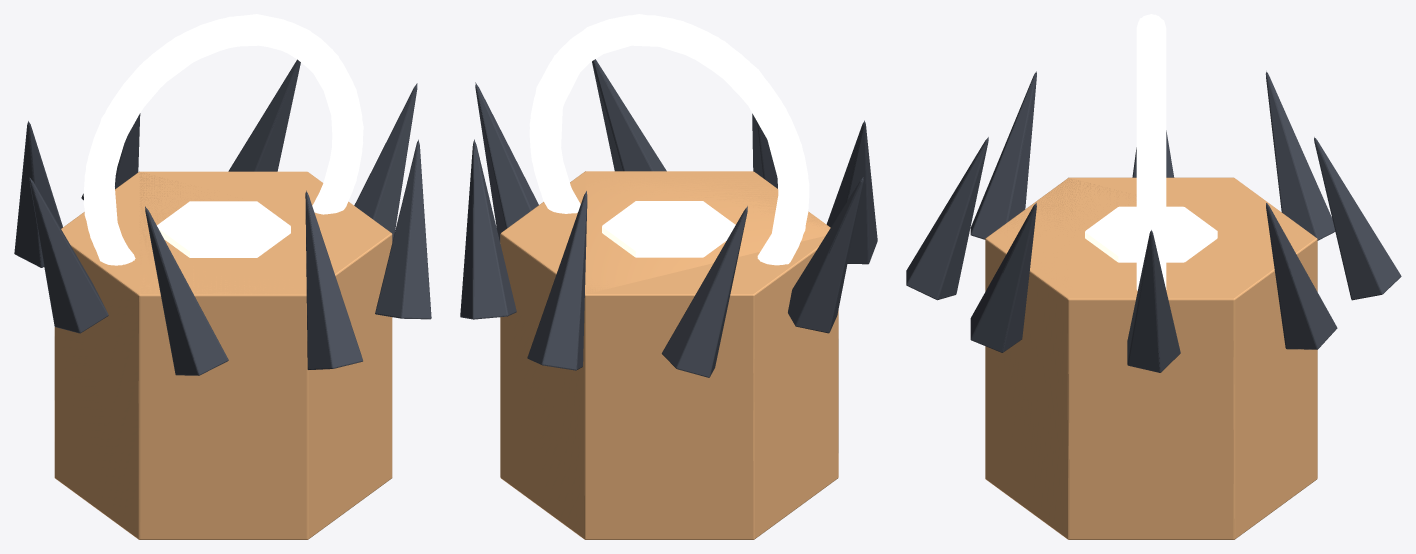
The model's file is SM_Boss_Kochbrunnen.fbx.
The picture shows the model from 3 angles, left to right: view 1: azimuth 30°, elevation 25°; view 2: azimuth 150°, elevation 25°; view 3: azimuth 270°, elevation 25°; orthographic projection.
Visible parts, largest first — view 1: LOD0_SM_Boss_Kochbrunnen, LOD1_SM_Boss_Kochbrunnen, LOD3_SM_Boss_Kochbrunnen, LOD2_SM_Boss_Kochbrunnen; view 2: LOD0_SM_Boss_Kochbrunnen, LOD1_SM_Boss_Kochbrunnen, LOD3_SM_Boss_Kochbrunnen, LOD2_SM_Boss_Kochbrunnen; view 3: LOD0_SM_Boss_Kochbrunnen, LOD1_SM_Boss_Kochbrunnen, LOD2_SM_Boss_Kochbrunnen, LOD3_SM_Boss_Kochbrunnen.
Boxes of the visible parts, x1,y1,x2,y2 form: LOD0_SM_Boss_Kochbrunnen: [14, 15, 431, 539]; LOD1_SM_Boss_Kochbrunnen: [14, 15, 430, 539]; LOD3_SM_Boss_Kochbrunnen: [28, 14, 418, 265]; LOD2_SM_Boss_Kochbrunnen: [28, 16, 418, 539]; LOD0_SM_Boss_Kochbrunnen: [460, 15, 877, 539]; LOD1_SM_Boss_Kochbrunnen: [464, 15, 877, 539]; LOD3_SM_Boss_Kochbrunnen: [474, 14, 864, 264]; LOD2_SM_Boss_Kochbrunnen: [473, 15, 864, 539]; LOD0_SM_Boss_Kochbrunnen: [906, 15, 1401, 539]; LOD1_SM_Boss_Kochbrunnen: [906, 16, 1378, 539]; LOD2_SM_Boss_Kochbrunnen: [937, 14, 1317, 539]; LOD3_SM_Boss_Kochbrunnen: [988, 14, 1314, 289].
Bounding box in the file's own units: 3.4 × 3.91 × 3.83.
